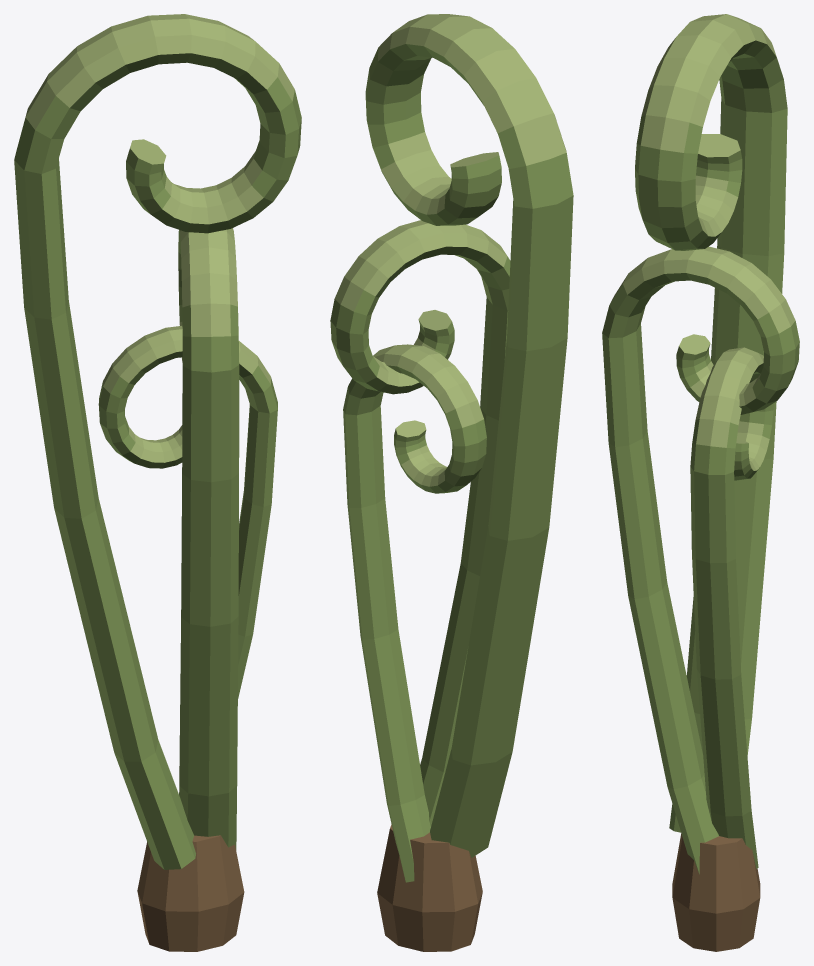
The picture shows the model from 3 angles, left to right: view 1: azimuth 30°, elevation 25°; view 2: azimuth 150°, elevation 25°; view 3: azimuth 270°, elevation 25°; orthographic projection. The views are drawn at different scales.
Visible parts, largest first — view 1: WholeInwardCoiledEmergingFrond1, WholeInwardCoiledEmergingFrond2, WholeInwardCoiledEmergingFrond3, WholeGroundedFernBasalSheath; view 2: WholeInwardCoiledEmergingFrond1, WholeInwardCoiledEmergingFrond3, WholeInwardCoiledEmergingFrond2, WholeGroundedFernBasalSheath; view 3: WholeInwardCoiledEmergingFrond1, WholeInwardCoiledEmergingFrond2, WholeInwardCoiledEmergingFrond3, WholeGroundedFernBasalSheath.
Boxes of the visible parts, x1,y1,x2,y2 form: WholeInwardCoiledEmergingFrond1: [14, 14, 301, 869]; WholeInwardCoiledEmergingFrond2: [178, 228, 239, 850]; WholeInwardCoiledEmergingFrond3: [98, 326, 277, 698]; WholeGroundedFernBasalSheath: [137, 835, 244, 951]; WholeInwardCoiledEmergingFrond1: [365, 14, 573, 857]; WholeInwardCoiledEmergingFrond3: [343, 344, 486, 882]; WholeInwardCoiledEmergingFrond2: [330, 220, 510, 826]; WholeGroundedFernBasalSheath: [377, 824, 482, 951]; WholeInwardCoiledEmergingFrond1: [635, 14, 787, 832]; WholeInwardCoiledEmergingFrond2: [602, 246, 799, 874]; WholeInwardCoiledEmergingFrond3: [690, 347, 773, 868]; WholeGroundedFernBasalSheath: [672, 833, 760, 951].
Size of the model in its own units: 0.162 by 0.5985 by 0.1201.
